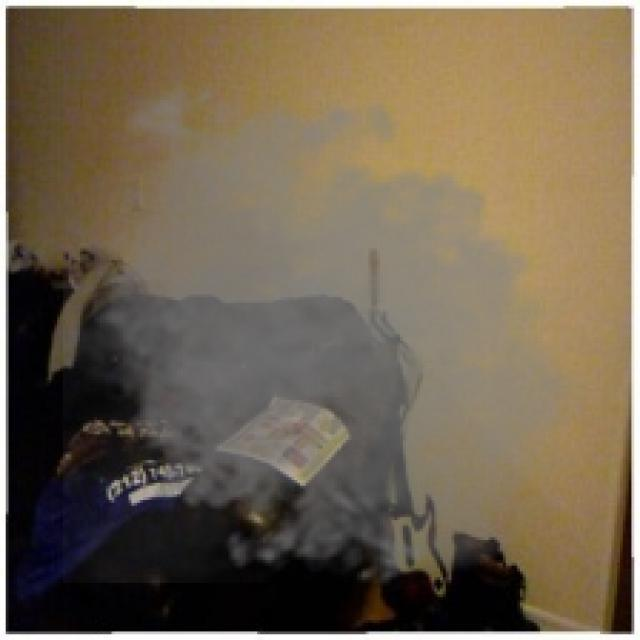Smoke: (62, 68, 608, 594)
